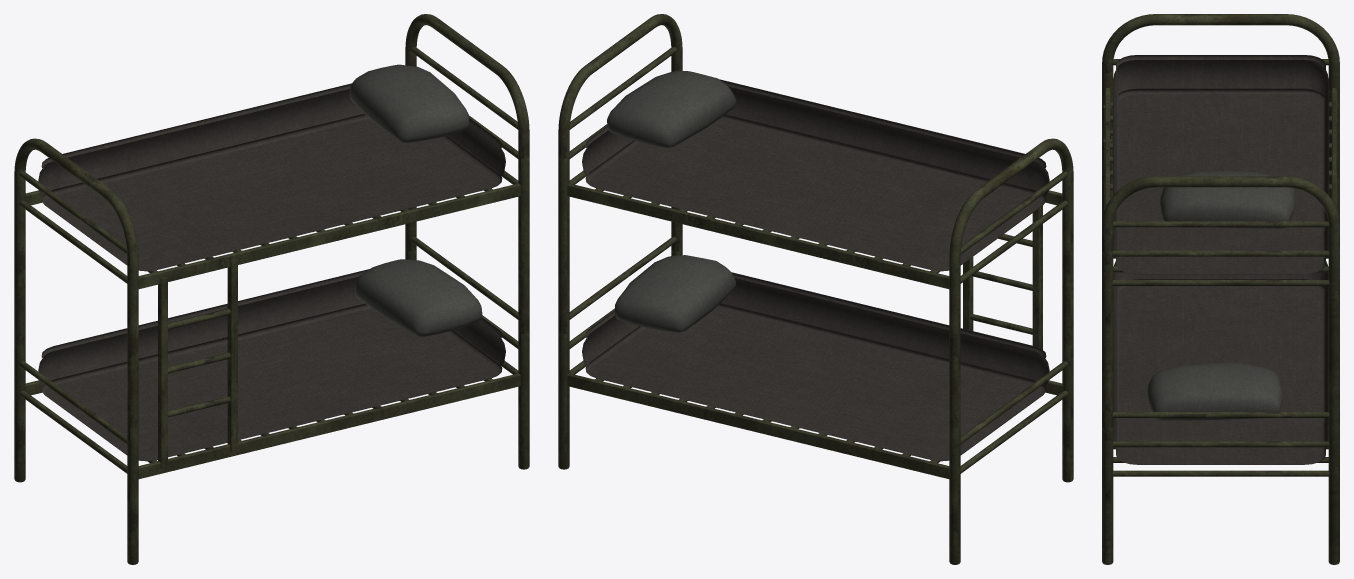
The model's file is bed_2.obj.
3 renders of one model, left to right at view 1: azimuth 30°, elevation 25°; view 2: azimuth 150°, elevation 25°; view 3: azimuth 270°, elevation 25°, orthographic.
Visible parts, largest first — view 1: bed_2; view 2: bed_2; view 3: bed_2.
Boxes of the visible parts, left/top/right/bottom form: bed_2: left=14, top=14, right=529, bottom=564; bed_2: left=558, top=14, right=1073, bottom=564; bed_2: left=1102, top=14, right=1339, bottom=564.
Bounding box in the file's own units: 2.87 × 2.63 × 1.47.
